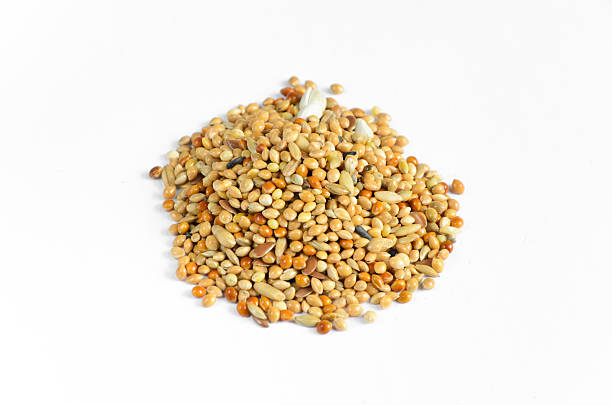seed: (131, 67, 475, 343)
